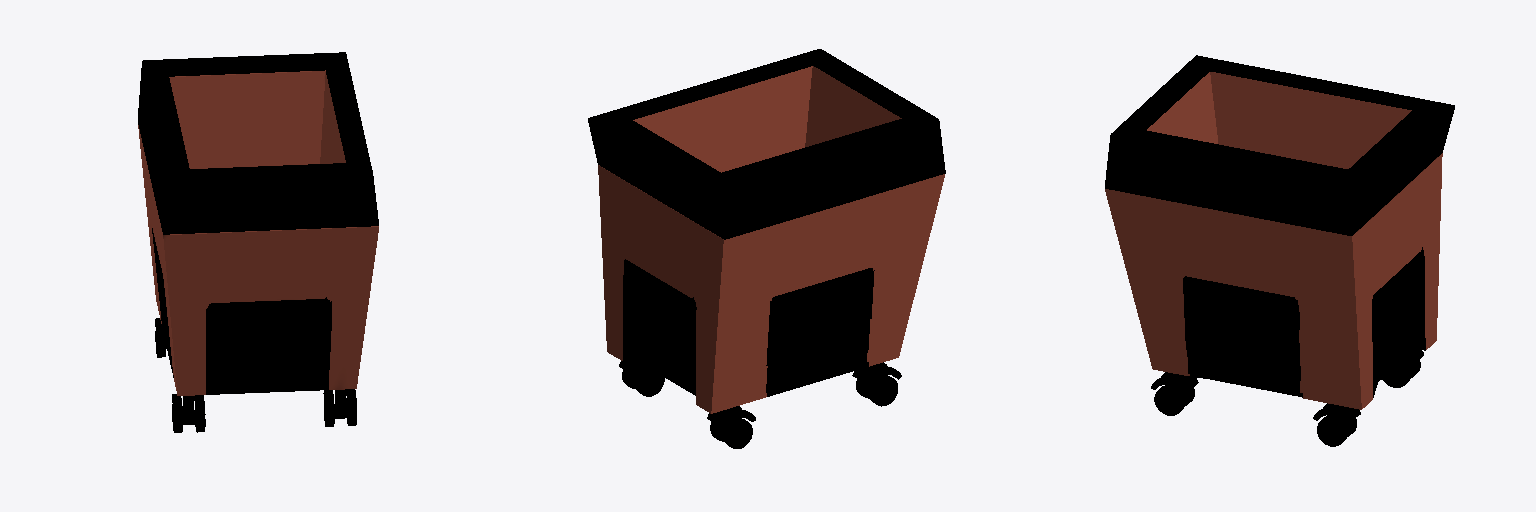
The picture shows the model from 3 angles: view 1: azimuth 30°, elevation 25°; view 2: azimuth 150°, elevation 25°; view 3: azimuth 270°, elevation 25°; orthographic projection.
Visible parts, largest first — view 1: Mocio; view 2: Mocio; view 3: Mocio.
Boxes of the visible parts, box(x1,y1,x2,y2) form: Mocio: box(138, 52, 378, 432); Mocio: box(588, 49, 945, 448); Mocio: box(1105, 55, 1454, 446).
Size of the model in its own units: 3.55 by 3.48 by 3.99.
Materials: 1 (1 with a texture image).